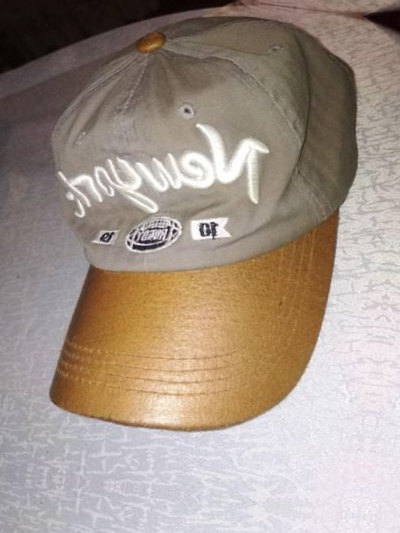Hat: (0, 0, 387, 485), (0, 499, 323, 533), (50, 0, 400, 9), (395, 36, 400, 533)
